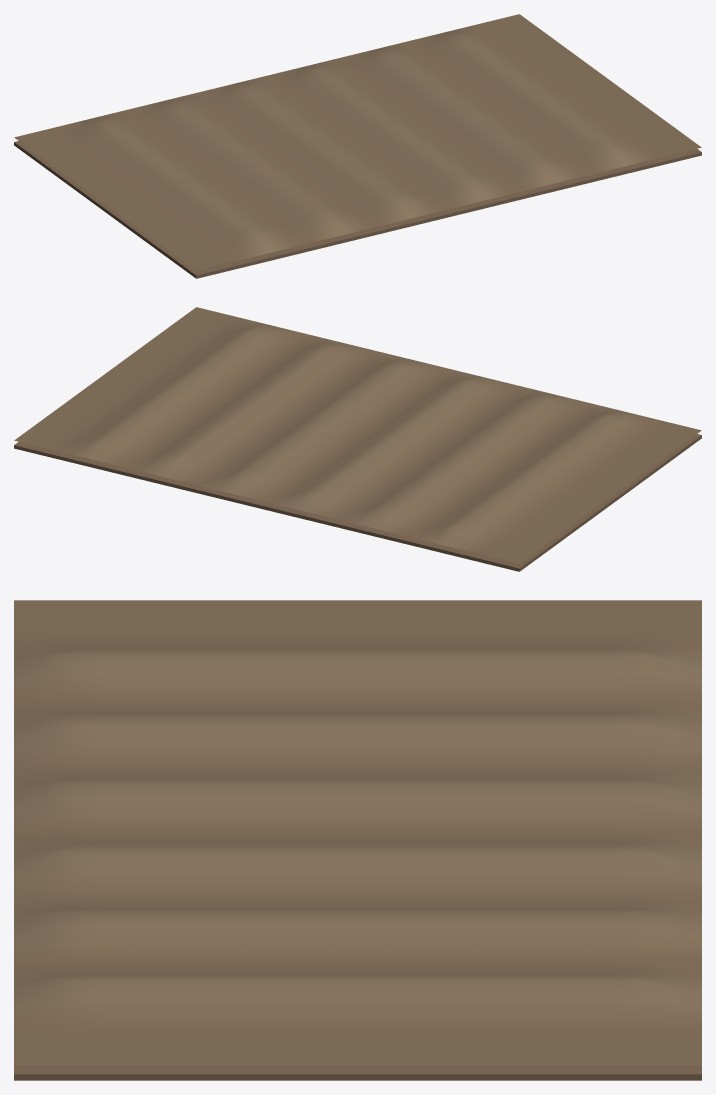
The model's file is field_stage1_low.glb.
3 views of the same model, one above another, from view 1: azimuth 30°, elevation 25°; view 2: azimuth 150°, elevation 25°; view 3: azimuth 270°, elevation 25° (orthographic). The views are drawn at different scales.
Bounding box in the file's own units: 8 × 0.235 × 5.
